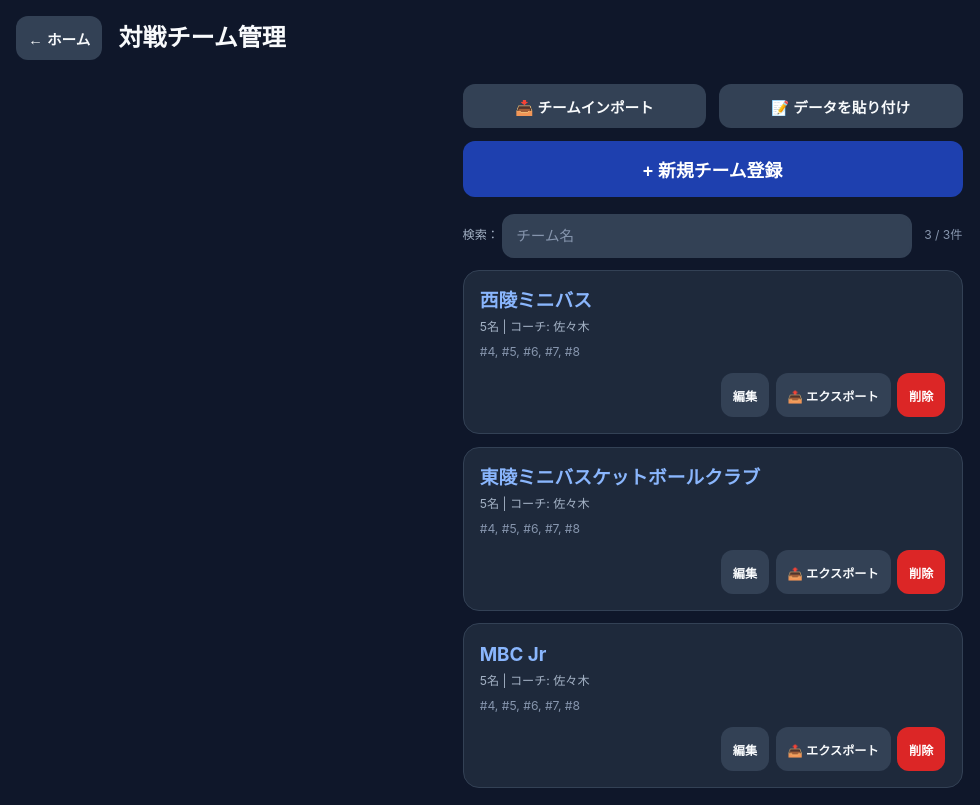
Scenario: OpponentManager: 名前で探す › ✕ を押すと全件に戻る
This screenshot has width=980, height=805.
Type "西陵" into the search field labelled "検索：" at (707, 236), box [502,214,912,258]
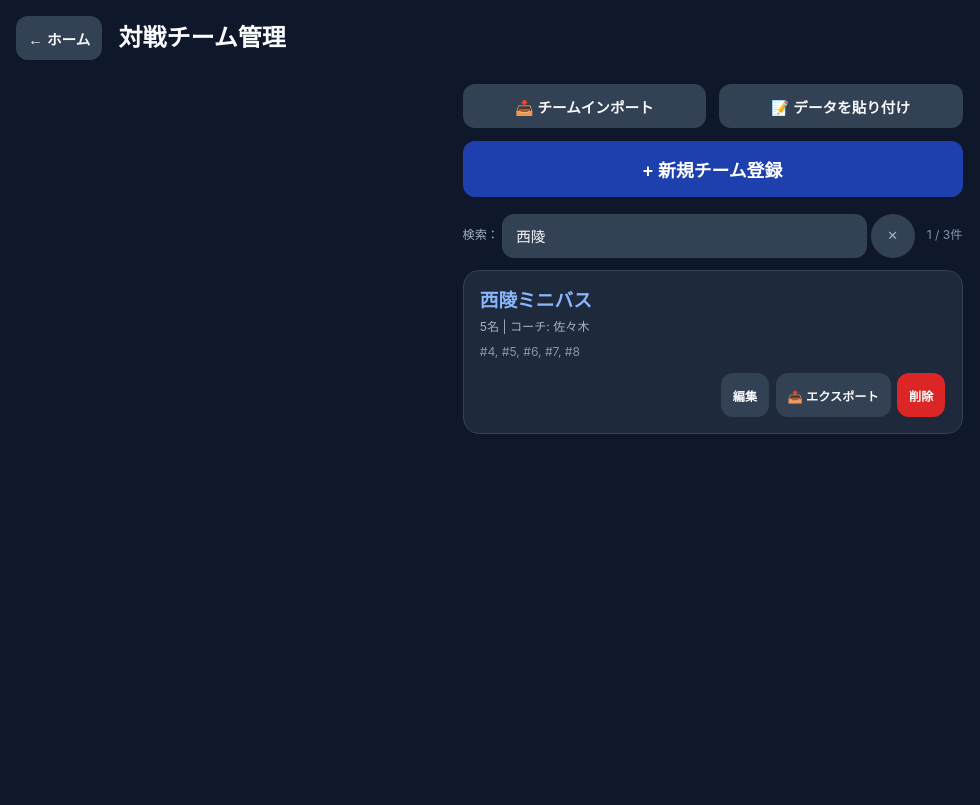
Click the button named "検索条件を消す" at (892, 236), box [870,214,914,258]
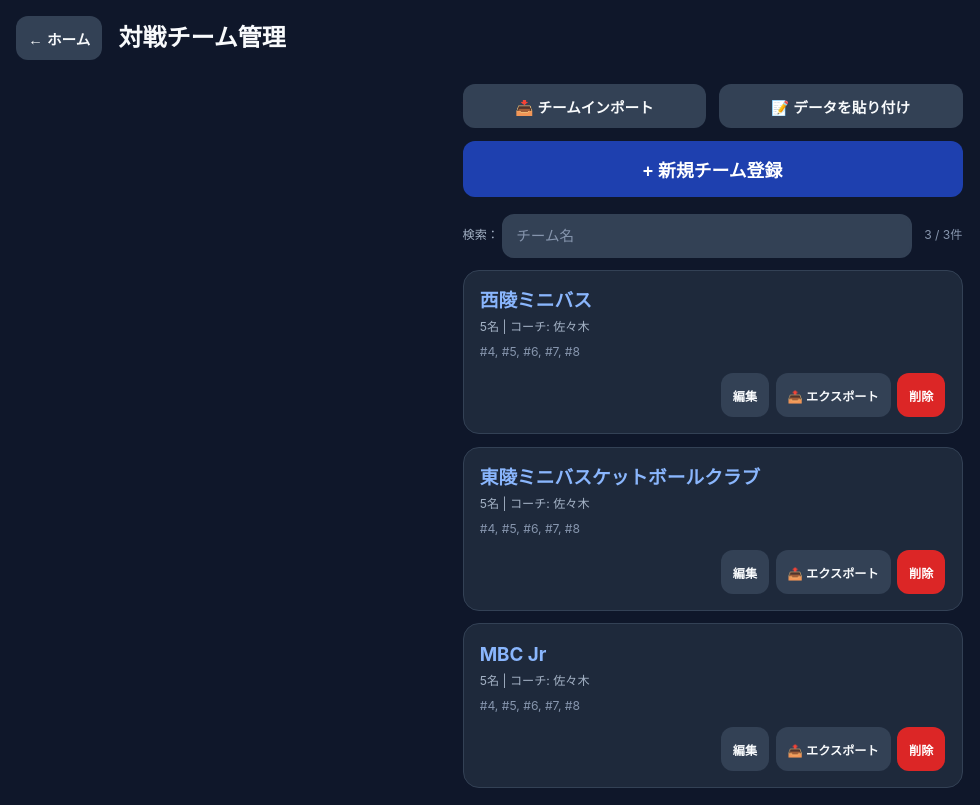
Check: the heading "東陵ミニバスケットボールクラブ" is shown, box [480,466,760,489]
Check: the heading "MBC Jr" is shown, box [480,643,546,666]
